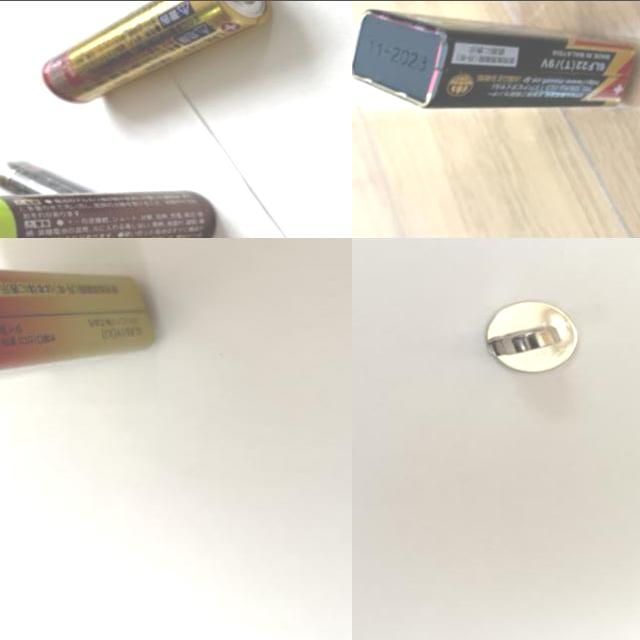9V: (352, 9, 633, 110), (0, 262, 158, 404)
